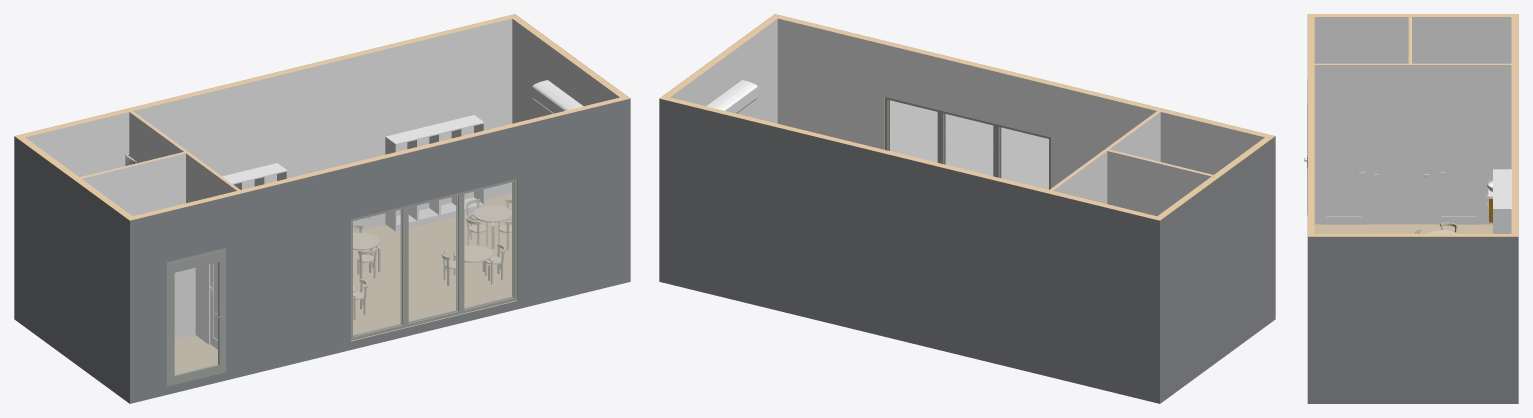
3 renders of one model, left to right at view 1: azimuth 30°, elevation 25°; view 2: azimuth 150°, elevation 25°; view 3: azimuth 270°, elevation 25°, orthographic. The views are drawn at different scales.
Parts seen in each view (by area): view 1: IfcWall/Part:2389539, IfcWall/Part:2389544, IfcWall/Part:2389536, IfcSlab/Part:2389547, IfcDoor/Lauko durys:1000x2100 (kairinės):2319763, IfcWindow/Langai:2100 x 1000 (varstomas-kairinis):2320001, IfcWindow/Langai:2100 x 1000:2319984, IfcWindow/Langai:2100 x 1000:2272101, IfcWall/Part:2389541, IfcWall/Part:2389529, IfcFurnishingElement/White+bookcase+revit+-+Librero+revit+b. (×4), IfcWall/Part:2389540 (+11 smaller); view 2: IfcWall/Part:2389545, IfcWall/Part:2389538, IfcWall/Part:2389536, IfcWall/Part:2389541, IfcWall/Part:2389528, IfcWindow/Langai:2100 x 1000:2319984, IfcWindow/Langai:2100 x 1000:2272101, IfcWindow/Langai:2100 x 1000 (varstomas-kairinis):2320001, IfcWall/Part:2389540, IfcWall/Part:2389546, IfcWall/Part:2389533, IfcWall/Part:2389532 (+3 smaller); view 3: IfcWall/Part:2389542, IfcWall/Part:2389531, IfcWall/Part:2389535, IfcDoor/Vidaus durys:800x2100mm (kairinės):2317637, IfcDoor/Vidaus durys:800x2100mm (dešininės):2354209, IfcSlab/Part:2389547, IfcWall/Part:2389546, IfcWall/Part:2389540, IfcFurnishingElement/White+bookcase+revit+-+Librero+revit+b., IfcWall/Part:2389543, IfcWall/Part:2389537, IfcWall/Part:2389534 (+6 smaller).
Part boxes in pixels (box(x1,y1,x2,y2)): IfcWall/Part:2389539: box(129, 98, 630, 403); IfcWall/Part:2389544: box(25, 18, 512, 231); IfcWall/Part:2389536: box(14, 136, 129, 403); IfcSlab/Part:2389547: box(174, 193, 511, 374); IfcDoor/Lauko durys:1000x2100 (kairinės):2319763: box(167, 248, 226, 386); IfcWindow/Langai:2100 x 1000 (varstomas-kairinis):2320001: box(460, 179, 516, 313); IfcWindow/Langai:2100 x 1000:2319984: box(405, 192, 462, 327); IfcWindow/Langai:2100 x 1000:2272101: box(351, 206, 405, 340); IfcWall/Part:2389541: box(512, 18, 619, 123); IfcWall/Part:2389529: box(81, 153, 185, 216); IfcFurnishingElement/White+bookcase+revit+-+Librero+revit+b. (×4): box(385, 115, 484, 231); IfcWall/Part:2389540: box(127, 97, 623, 341); IfcWall/Part:2389545: box(659, 98, 1160, 403); IfcWall/Part:2389538: box(777, 18, 1264, 188); IfcWall/Part:2389536: box(1160, 136, 1275, 403); IfcWall/Part:2389541: box(670, 18, 777, 123); IfcWall/Part:2389528: box(1107, 151, 1211, 216); IfcWindow/Langai:2100 x 1000:2319984: box(939, 110, 995, 176); IfcWindow/Langai:2100 x 1000:2272101: box(995, 124, 1050, 189); IfcWindow/Langai:2100 x 1000 (varstomas-kairinis):2320001: box(884, 97, 939, 163); IfcWall/Part:2389540: box(778, 15, 1274, 149); IfcWall/Part:2389546: box(660, 96, 1162, 220); IfcWall/Part:2389533: box(1052, 151, 1107, 203); IfcWall/Part:2389532: box(1109, 112, 1160, 161); IfcWall/Part:2389542: box(1307, 236, 1518, 403); IfcWall/Part:2389531: box(1314, 65, 1511, 224); IfcWall/Part:2389535: box(1314, 17, 1511, 63); IfcDoor/Vidaus durys:800x2100mm (kairinės):2317637: box(1318, 111, 1369, 224); IfcDoor/Vidaus durys:800x2100mm (dešininės):2354209: box(1433, 111, 1484, 224); IfcSlab/Part:2389547: box(1314, 224, 1492, 233); IfcWall/Part:2389546: box(1512, 14, 1518, 236); IfcWall/Part:2389540: box(1308, 14, 1314, 233); IfcFurnishingElement/White+bookcase+revit+-+Librero+revit+b.: box(1493, 199, 1511, 233); IfcWall/Part:2389543: box(1308, 234, 1511, 236); IfcWall/Part:2389537: box(1314, 14, 1511, 16); IfcWall/Part:2389534: box(1314, 63, 1511, 64).
Size of the model in its own units: 900 by 315 by 366.
